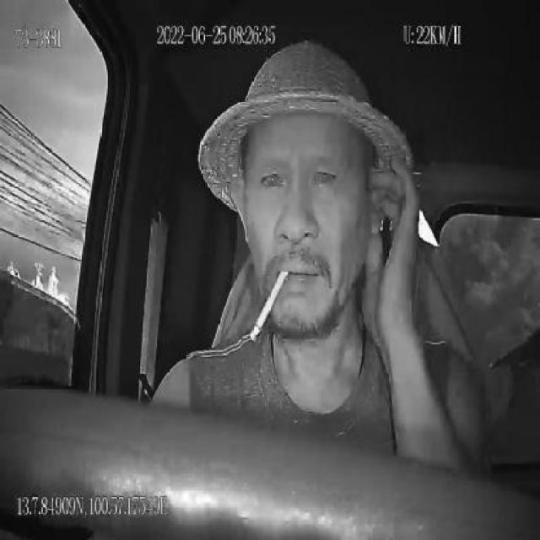smoking: (251, 268, 289, 340)
